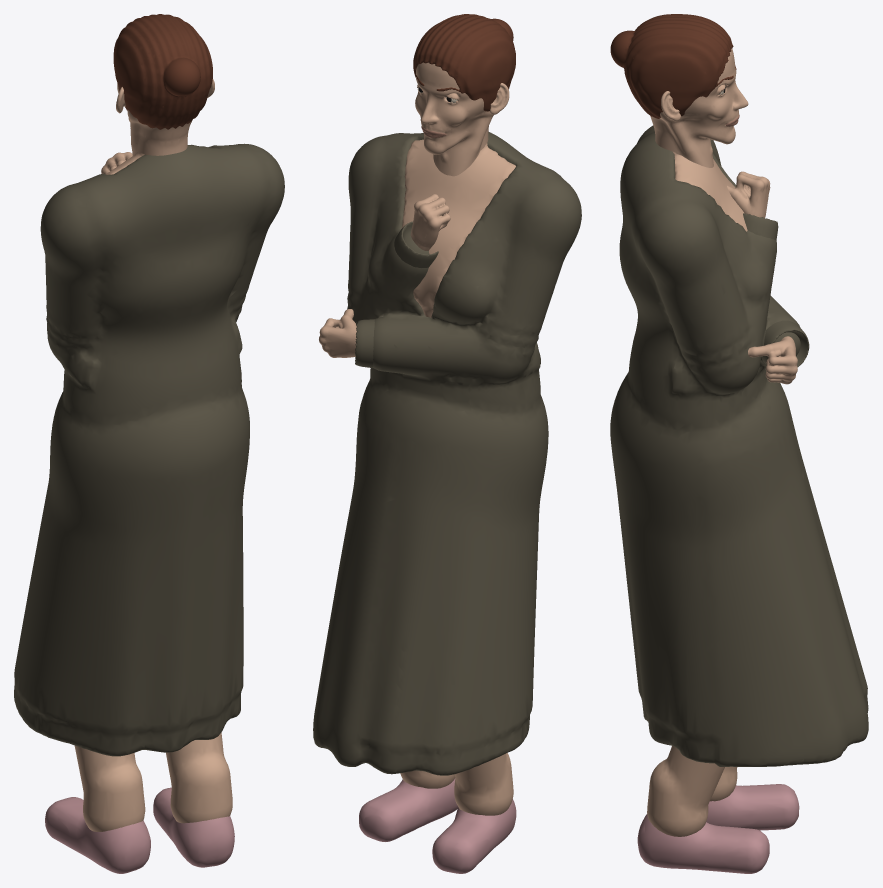
Rendered from lorraine_coat.glb.
3 views of the same model, side by side, from view 1: azimuth 30°, elevation 25°; view 2: azimuth 150°, elevation 25°; view 3: azimuth 270°, elevation 25° (orthographic). The views are drawn at different scales.
Parts seen in each view (by area): view 1: lorraine_coat_body, lorraine_coat_head; view 2: lorraine_coat_body, lorraine_coat_head, lorraine_coat_hands; view 3: lorraine_coat_body, lorraine_coat_head, lorraine_coat_hands.
Boxes of the visible parts, x1=… form: lorraine_coat_body: x1=14, y1=143, x2=284, y2=873; lorraine_coat_head: x1=113, y1=14, x2=214, y2=155; lorraine_coat_body: x1=313, y1=131, x2=581, y2=873; lorraine_coat_head: x1=413, y1=14, x2=515, y2=176; lorraine_coat_hands: x1=319, y1=194, x2=450, y2=367; lorraine_coat_body: x1=610, y1=125, x2=868, y2=873; lorraine_coat_head: x1=610, y1=14, x2=748, y2=167; lorraine_coat_hands: x1=727, y1=171, x2=809, y2=384.
Bounding box in the file's own units: 0.4533 × 1.57 × 0.4438.
